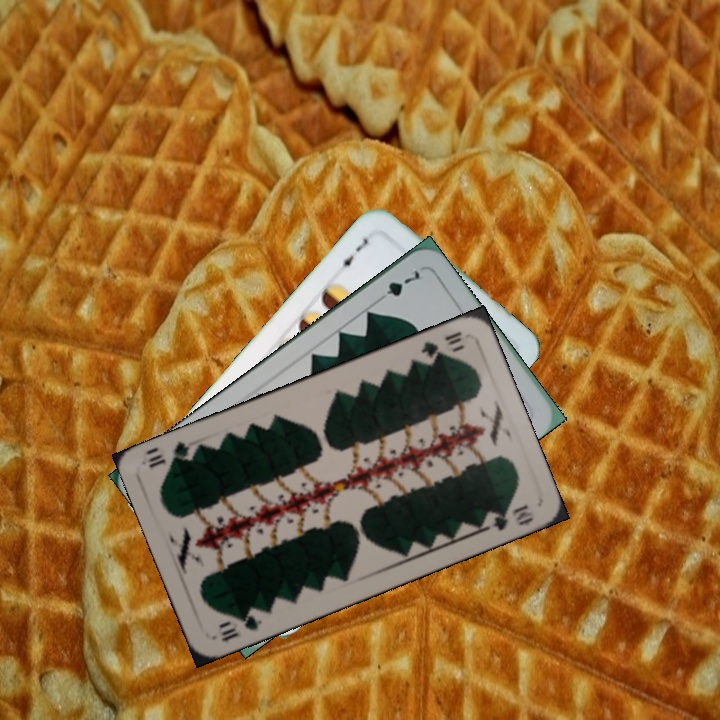E7: (333, 233, 372, 273)
G10: (214, 608, 265, 645), (417, 327, 465, 362)
G7: (372, 263, 423, 306)
